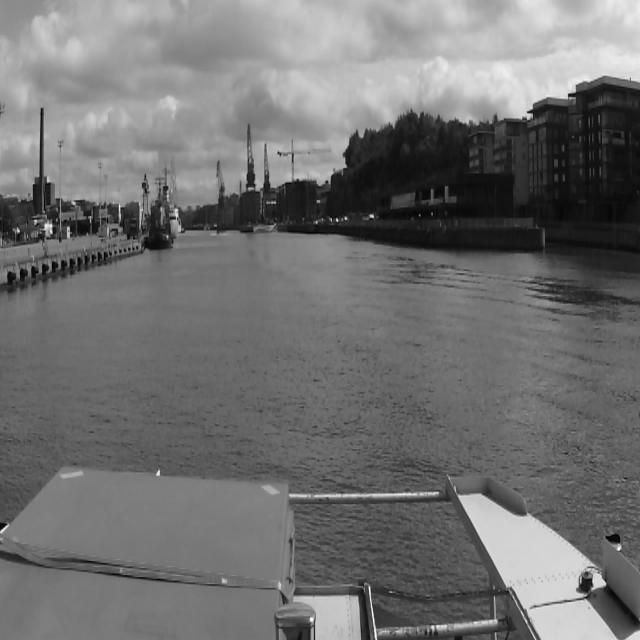ship: (146, 176, 172, 249), (162, 186, 178, 239)
